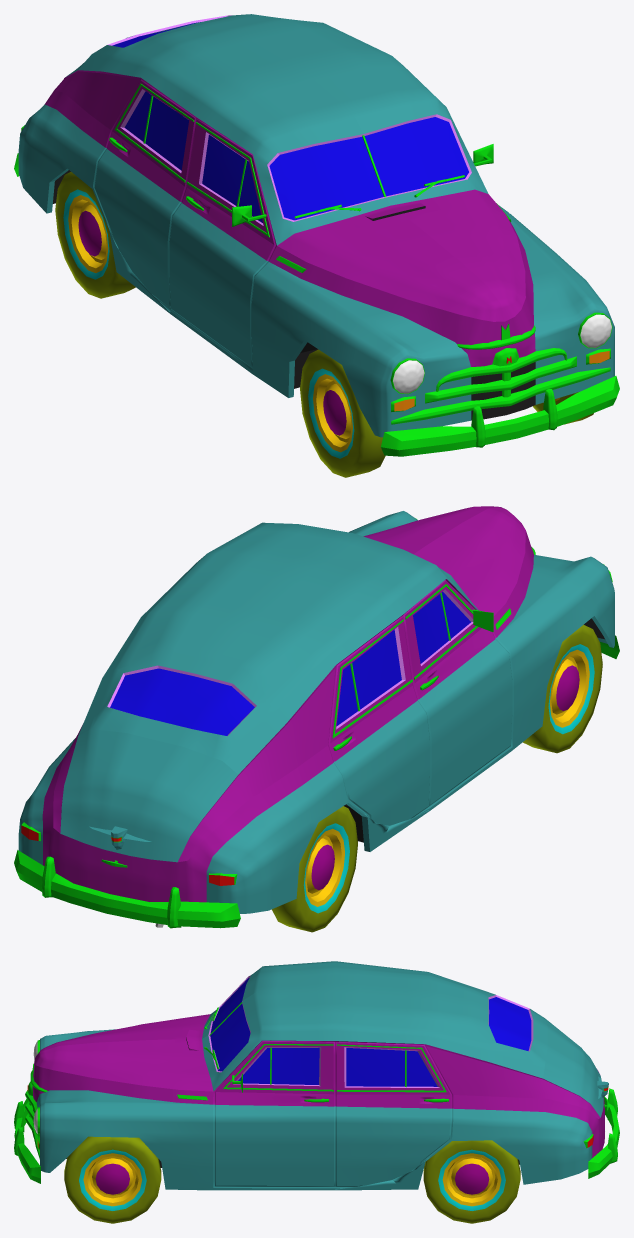
File: Pobeda_HighPoly.fbx
The picture shows the model from 3 angles, top to bottom: view 1: azimuth 30°, elevation 25°; view 2: azimuth 150°, elevation 25°; view 3: azimuth 270°, elevation 25°; orthographic projection. The views are drawn at different scales.
Parts seen in each view (by area): view 1: Body, Wheel_FR, Wheel_RR; view 2: Body, Wheel_RR, Wheel_FR; view 3: Body, Wheel_FL, Wheel_RL.
Part boxes in pixels (<box>): Body: <box>14,14,619,456</box>; Wheel_FR: <box>300,349,385,477</box>; Wheel_RR: <box>55,172,135,298</box>; Body: <box>14,506,619,928</box>; Wheel_RR: <box>272,806,357,932</box>; Wheel_FR: <box>523,624,602,753</box>; Body: <box>14,961,619,1190</box>; Wheel_FL: <box>64,1136,161,1223</box>; Wheel_RL: <box>423,1140,520,1223</box>.
Size of the model in its own units: 167 by 161 by 457.
